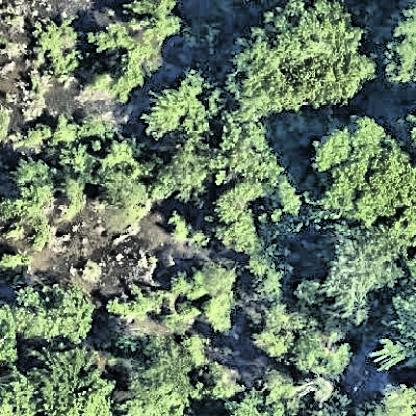tree-top: (221, 2, 377, 116), (304, 115, 416, 228), (308, 229, 410, 314), (117, 328, 205, 416), (88, 6, 179, 89), (12, 272, 99, 353), (256, 313, 353, 379), (27, 348, 119, 416), (140, 73, 223, 142), (1, 153, 57, 252), (179, 257, 246, 332), (216, 115, 287, 184), (155, 146, 216, 208), (379, 6, 416, 89), (93, 171, 156, 219), (60, 140, 99, 212), (106, 284, 170, 324), (42, 20, 84, 77), (210, 181, 266, 221), (206, 356, 248, 400), (378, 378, 416, 416)
